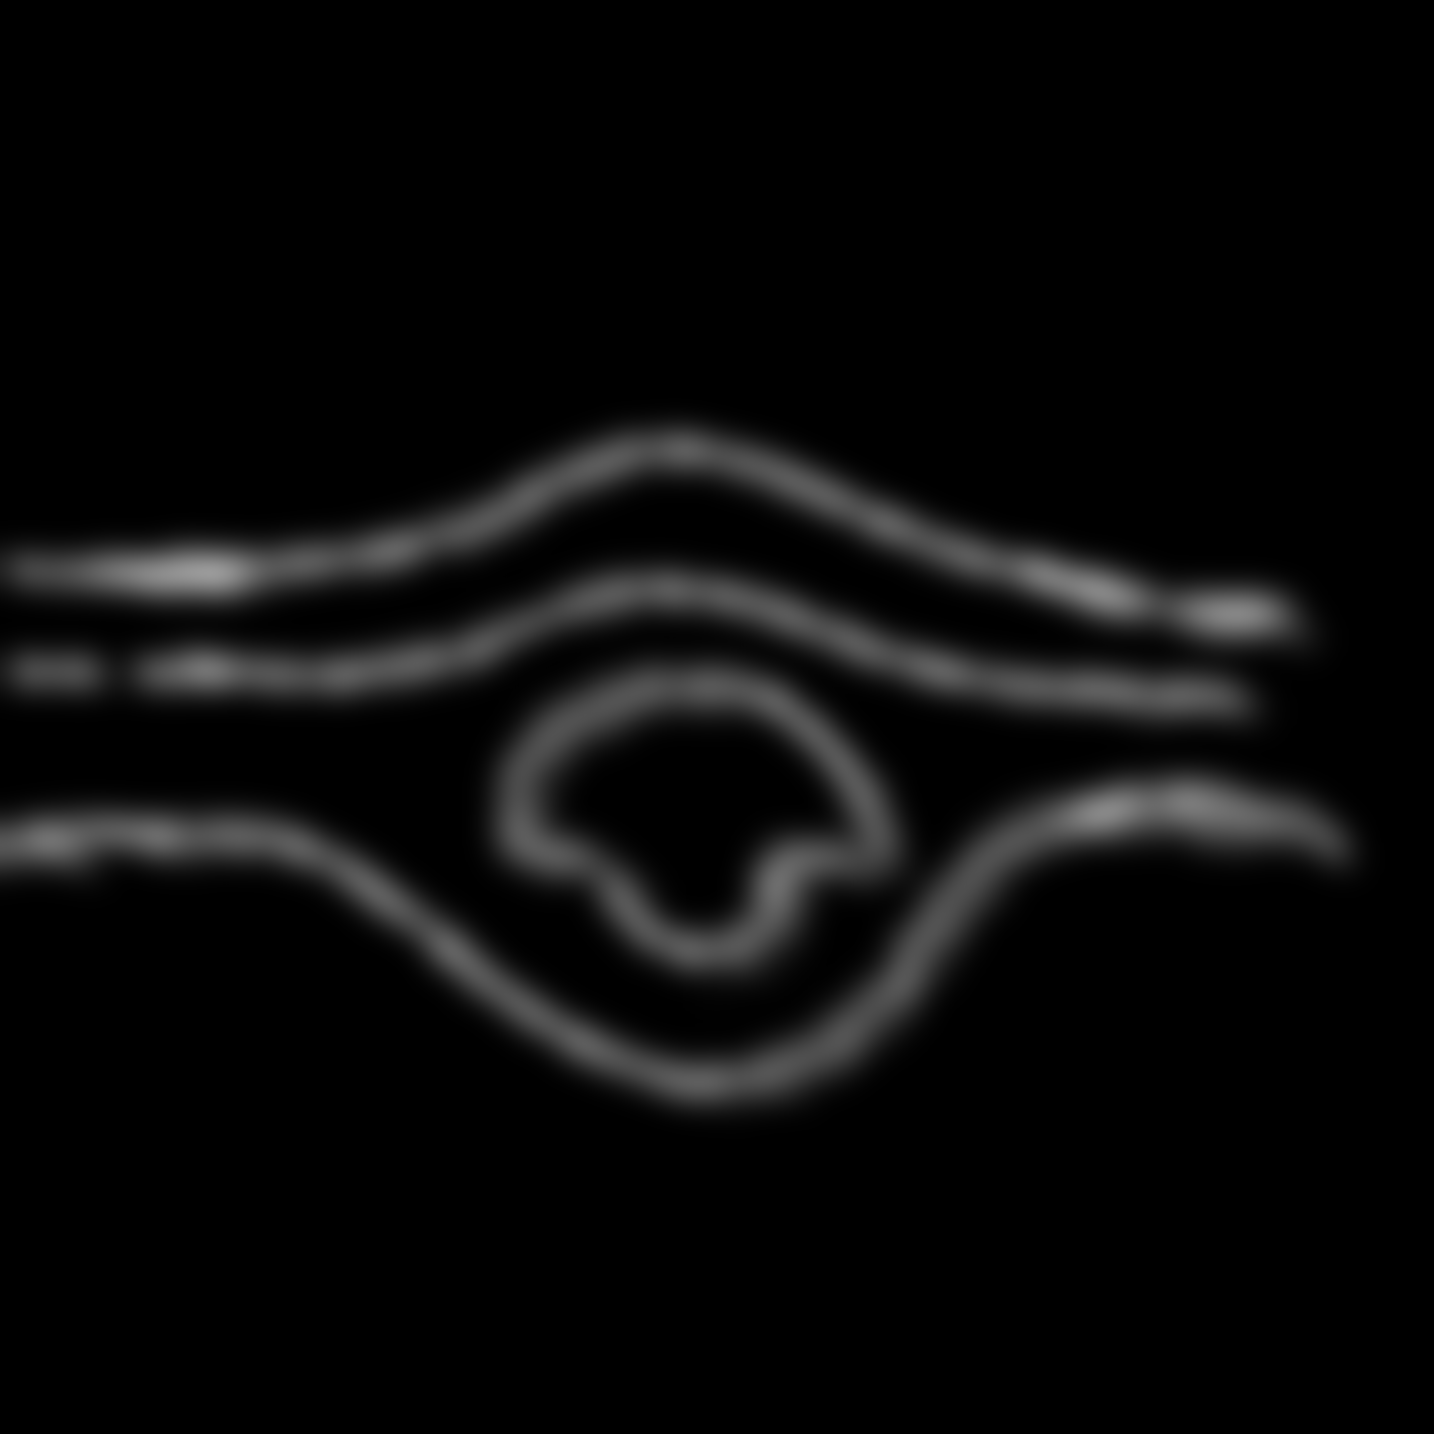Transition flow: (16, 377, 1349, 1107)
